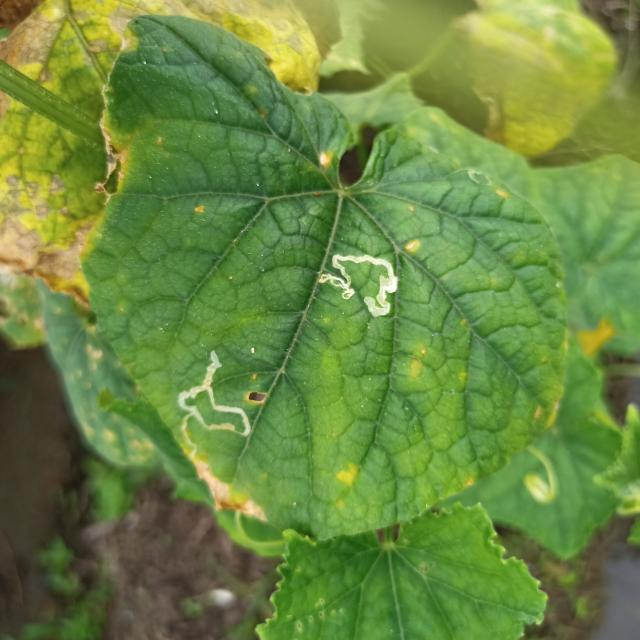disease_cucumber: (525, 394, 566, 434), (332, 462, 360, 506), (408, 346, 428, 381), (404, 234, 420, 256), (319, 151, 333, 171), (492, 186, 507, 200), (192, 203, 206, 217)
